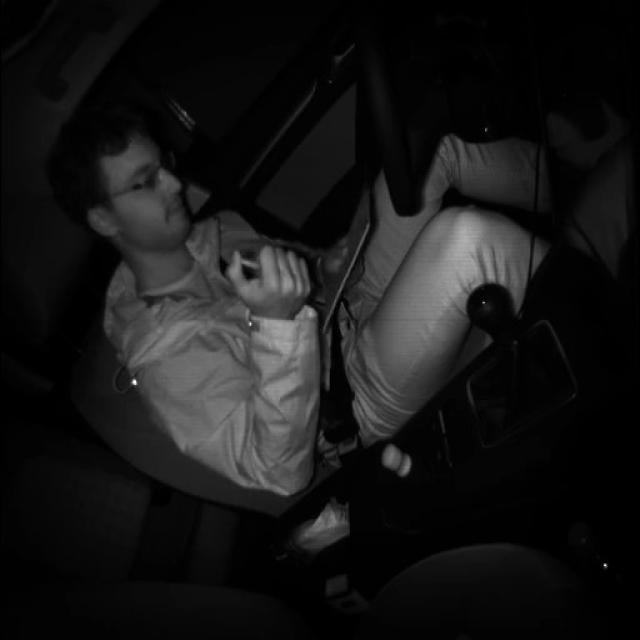pen: (232, 257, 328, 301)
